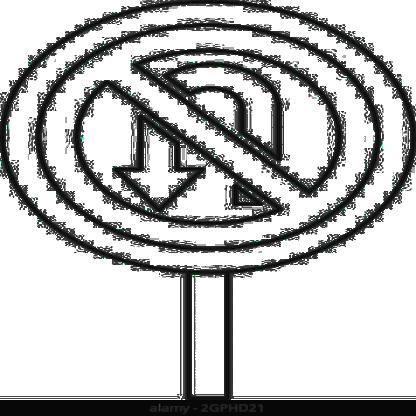No U-turn: (0, 2, 416, 274)
